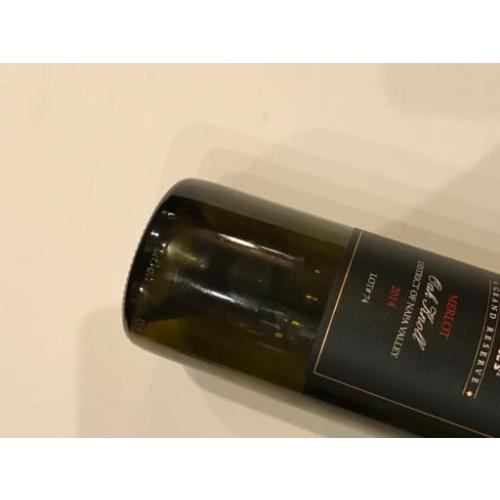glass: (124, 178, 498, 435)
